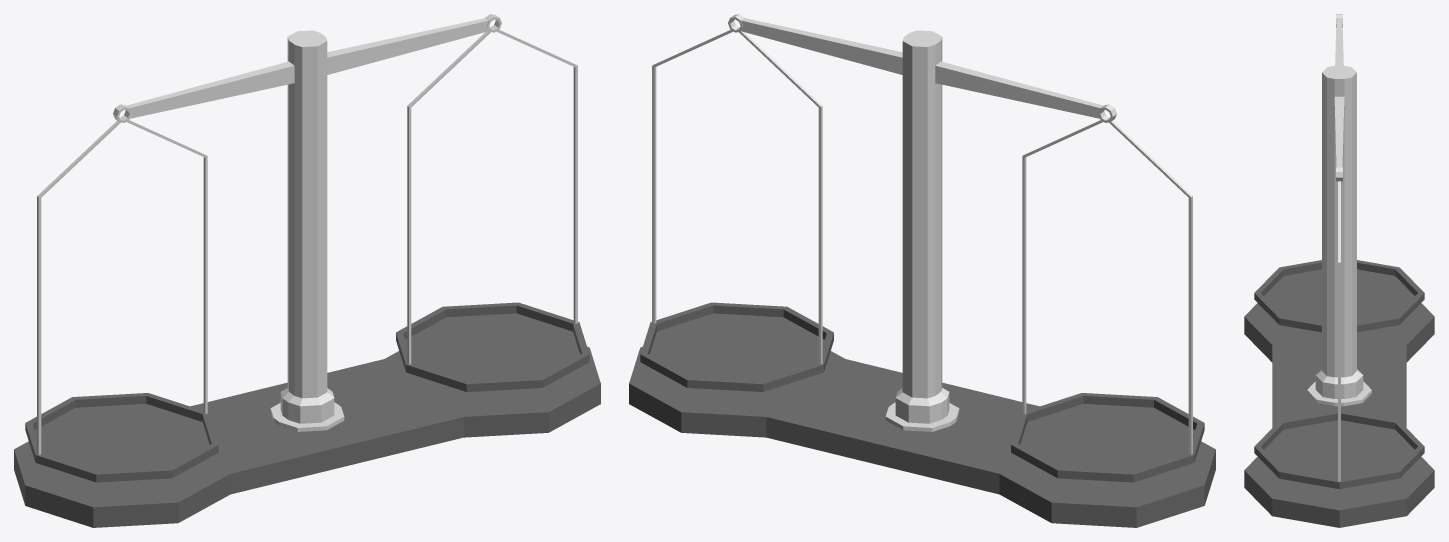
Rendered from Timbangan.fbx.
The picture shows the model from 3 angles, left to right: view 1: azimuth 30°, elevation 25°; view 2: azimuth 150°, elevation 25°; view 3: azimuth 270°, elevation 25°; orthographic projection. The views are drawn at different scales.
Visible parts, largest first — view 1: Cylinder; view 2: Cylinder; view 3: Cylinder.
Part boxes in pixels (x1=…): Cylinder: x1=14, y1=14, x2=600, y2=527; Cylinder: x1=629, y1=14, x2=1215, y2=527; Cylinder: x1=1244, y1=14, x2=1434, y2=527.
Size of the model in its own units: 139 by 93.71 by 47.78.
1 material, 1 textured.
